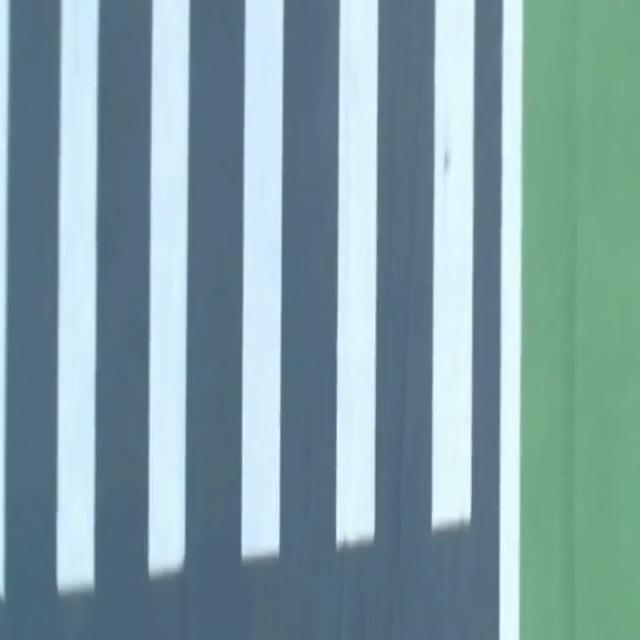right: (499, 0, 522, 639)
